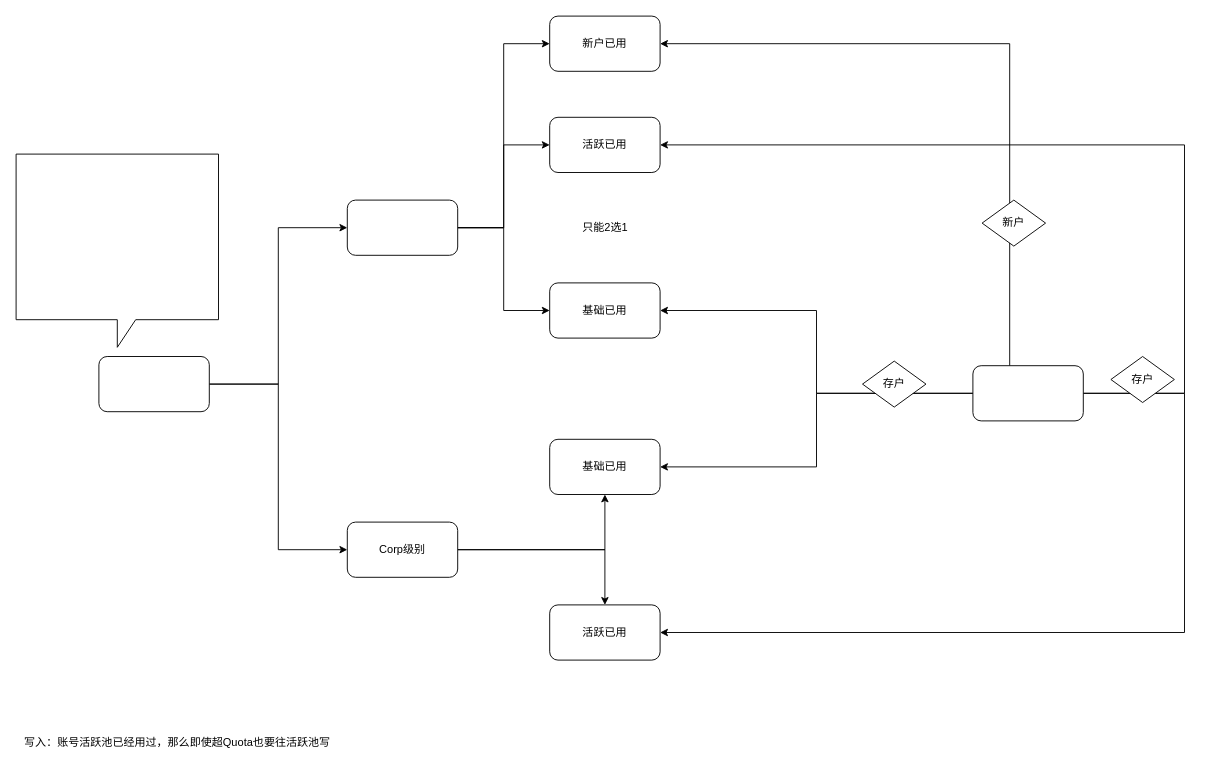
Image size: 1208x768. Some labels were removed from this diagram. Each missing label, with the box of its shape:
1. 新户只写账号级别-新户 2. 写入时优先判断活跃是否可用，不可用写基础: (15, 153, 218, 347)
写入: (98, 356, 209, 412)
查询: (972, 365, 1083, 421)
账号级别: (346, 199, 458, 255)
